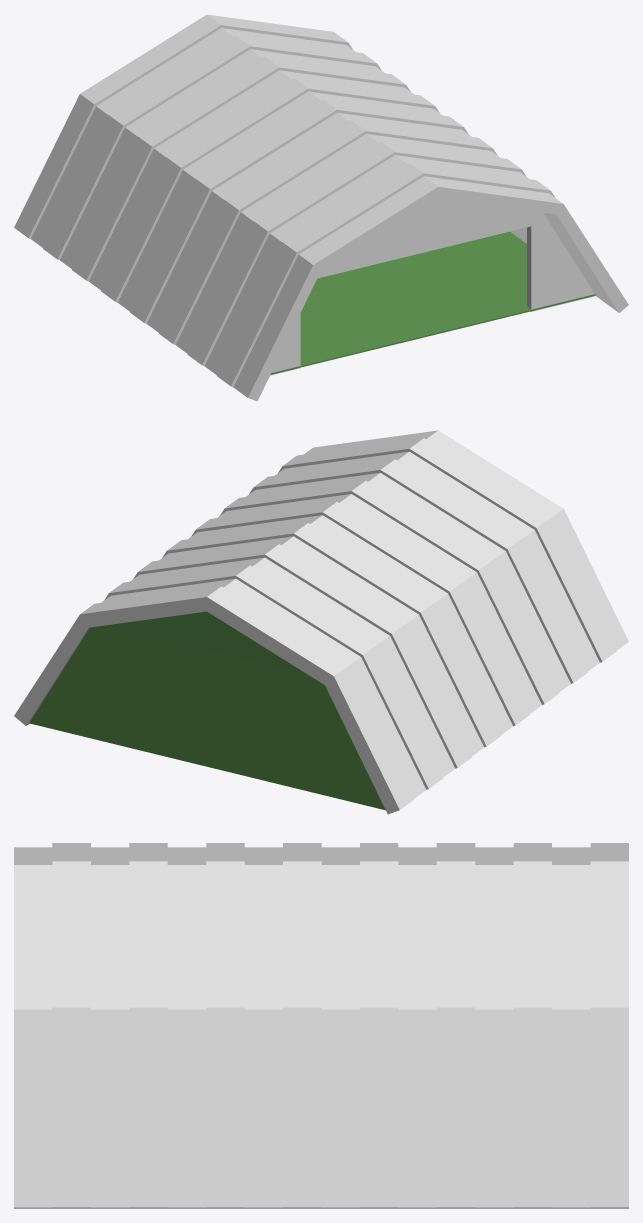
The model's file is angar green.fbx.
3 views of the same model, one above another, from view 1: azimuth 30°, elevation 25°; view 2: azimuth 150°, elevation 25°; view 3: azimuth 270°, elevation 25° (orthographic). The views are drawn at different scales.
Parts seen in each view (by area): view 1: Cylinder, Plane.004, Plane.001; view 2: Cylinder, Plane; view 3: Cylinder.
Part boxes in pixels (<box>): Cylinder: <box>14,14,628,401</box>; Plane.004: <box>270,231,595,374</box>; Plane.001: <box>270,198,595,375</box>; Cylinder: <box>14,430,628,814</box>; Plane: <box>29,611,385,810</box>; Cylinder: <box>14,843,628,1208</box>.
Size of the model in its own units: 385 by 165 by 400.
